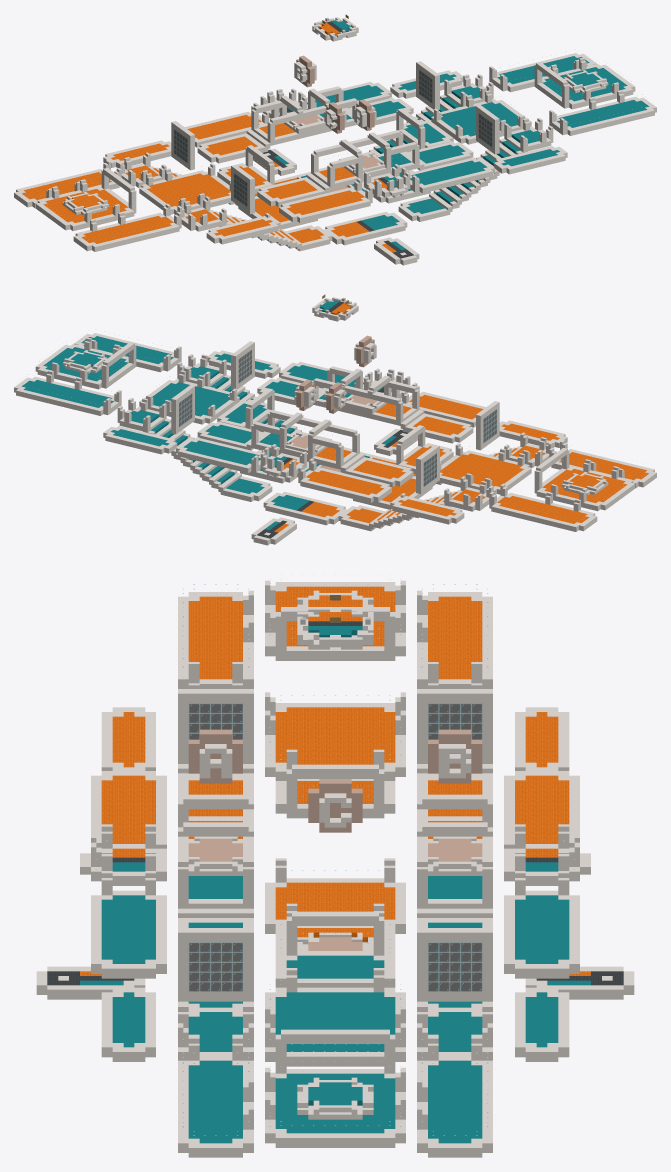
Rendered from minecraft.obj.
3 renders of one model, top to bottom at view 1: azimuth 30°, elevation 25°; view 2: azimuth 150°, elevation 25°; view 3: azimuth 270°, elevation 25°, orthographic. The views are drawn at different scales.
Bounding box in the file's own units: 121 × 38.75 × 55.
